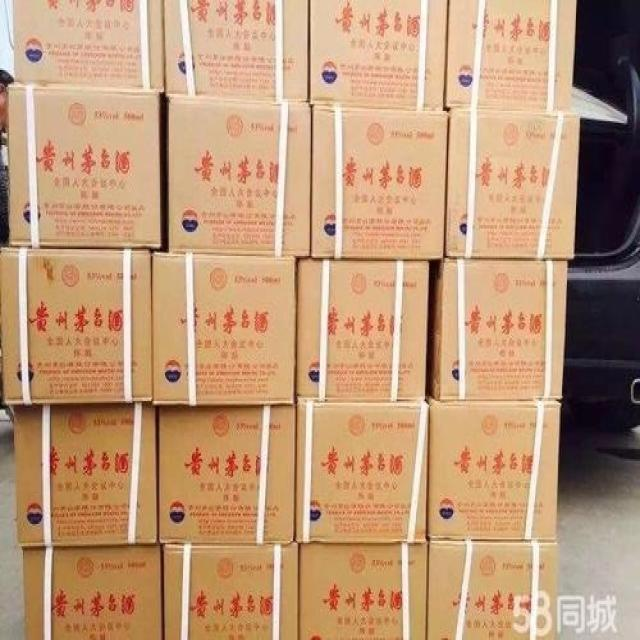box: (8, 86, 163, 247), (168, 97, 311, 256), (153, 251, 297, 405), (311, 106, 447, 259), (444, 108, 579, 259), (14, 404, 157, 546), (428, 257, 568, 401), (426, 392, 560, 540), (295, 256, 429, 400), (296, 400, 427, 544), (157, 407, 294, 542), (309, 0, 447, 110), (164, 1, 310, 101), (445, 1, 575, 112), (13, 0, 165, 93), (24, 544, 162, 638), (162, 544, 298, 638), (428, 541, 558, 638), (299, 544, 428, 638)
